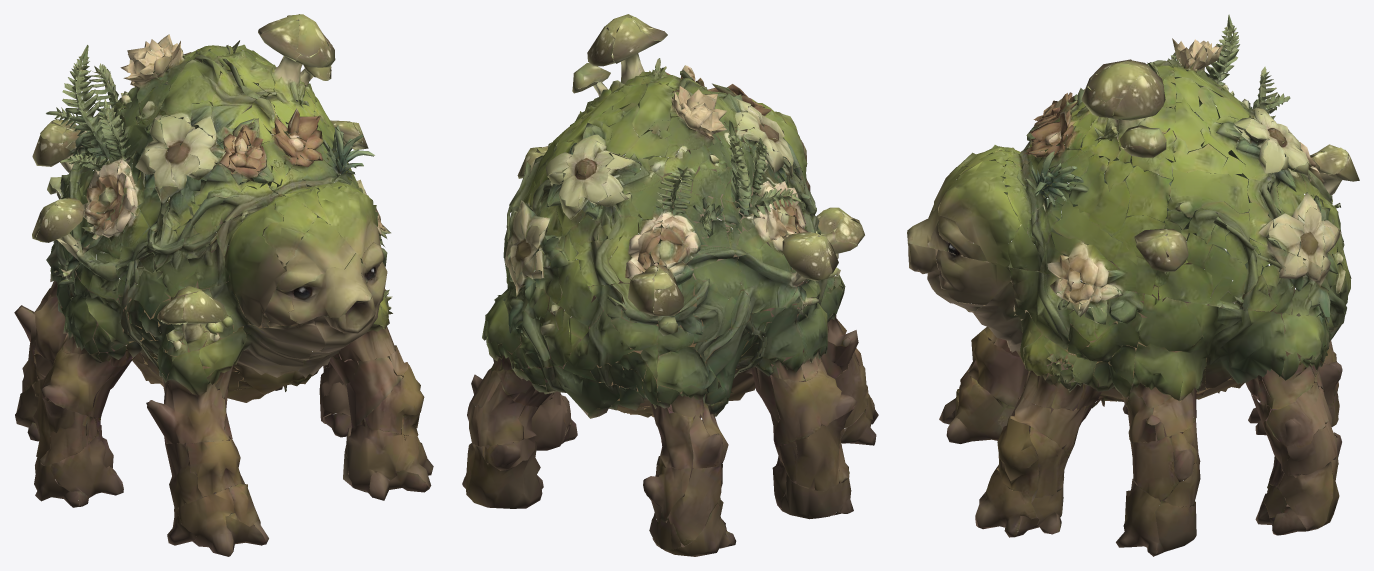
3 views of the same model, side by side, from view 1: azimuth 30°, elevation 25°; view 2: azimuth 150°, elevation 25°; view 3: azimuth 270°, elevation 25° (orthographic). The views are drawn at different scales.
Visible parts, largest first — view 1: Mesh_0; view 2: Mesh_0; view 3: Mesh_0.
Boxes of the visible parts, bbox=[...] form: Mesh_0: bbox=[14, 14, 433, 556]; Mesh_0: bbox=[462, 14, 878, 556]; Mesh_0: bbox=[907, 14, 1359, 556].
Bounding box in the file's own units: 1.66 × 1.9 × 1.78.
Materials: 1 (1 with a texture image).
